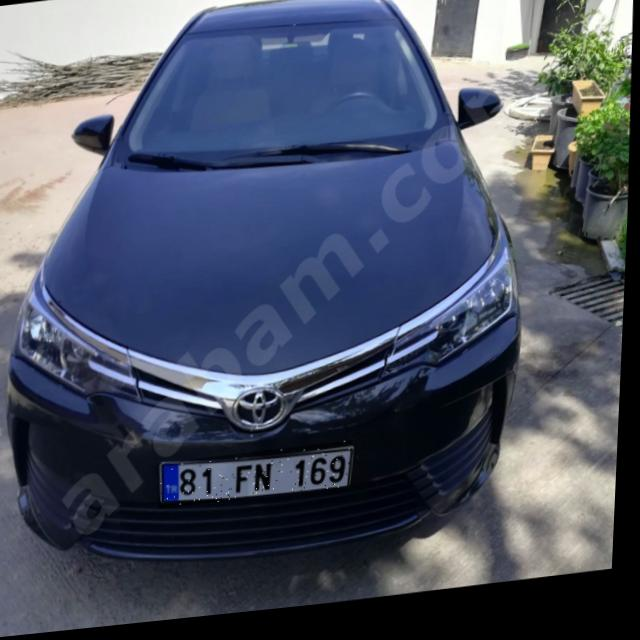license_plate: (163, 448, 357, 513)
